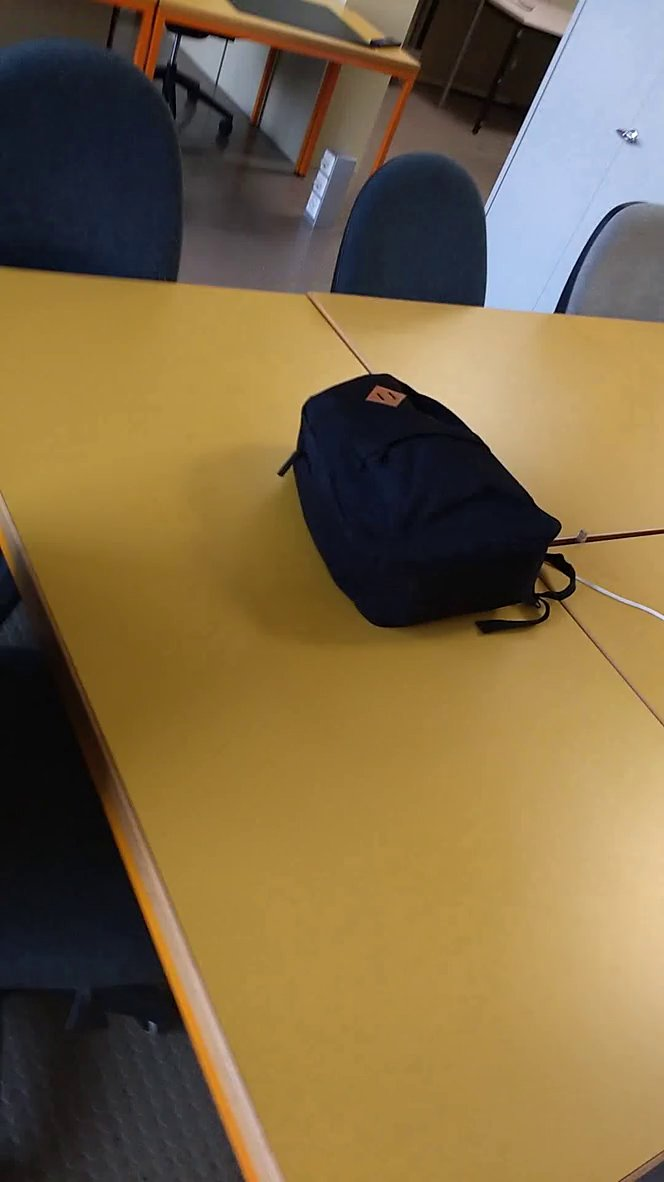bag: (268, 362, 600, 658)
chair: (1, 25, 199, 292), (327, 145, 498, 324), (546, 190, 664, 334)
